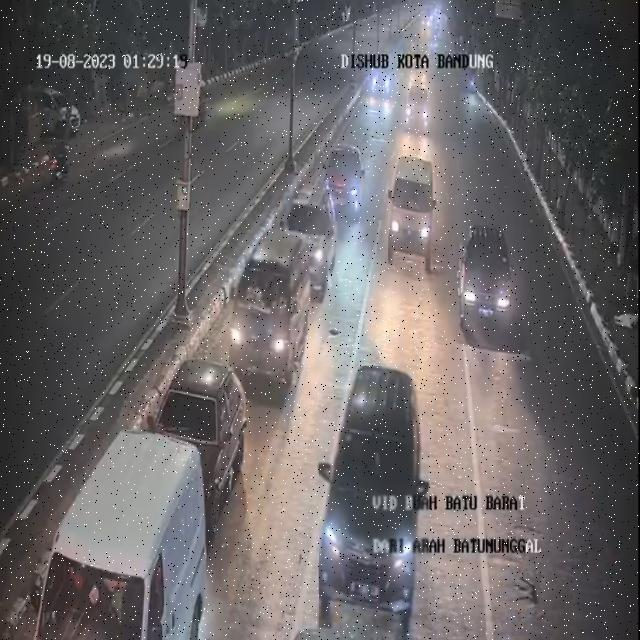cars: (34, 433, 205, 639), (320, 366, 428, 637), (155, 360, 247, 538), (229, 230, 311, 403), (281, 176, 338, 297), (457, 225, 515, 335), (389, 156, 438, 271), (324, 143, 367, 221)
